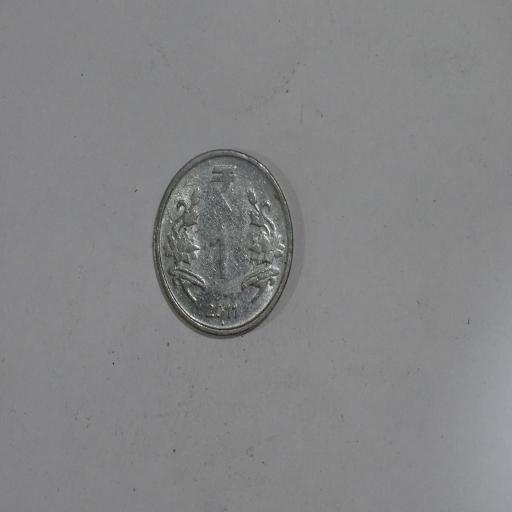rupee1: (151, 148, 296, 337)
